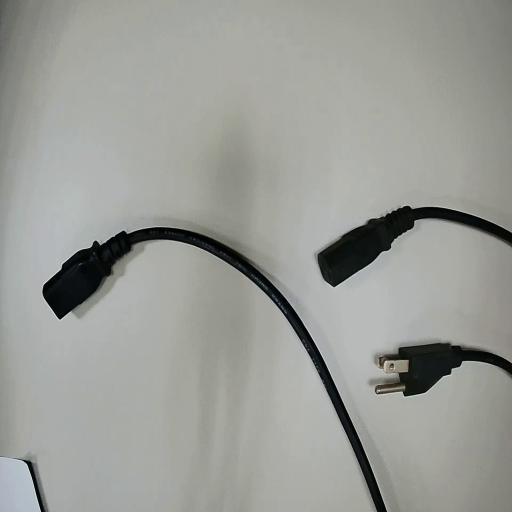wire: (43, 228, 385, 511), (318, 207, 511, 284), (387, 344, 511, 394)
